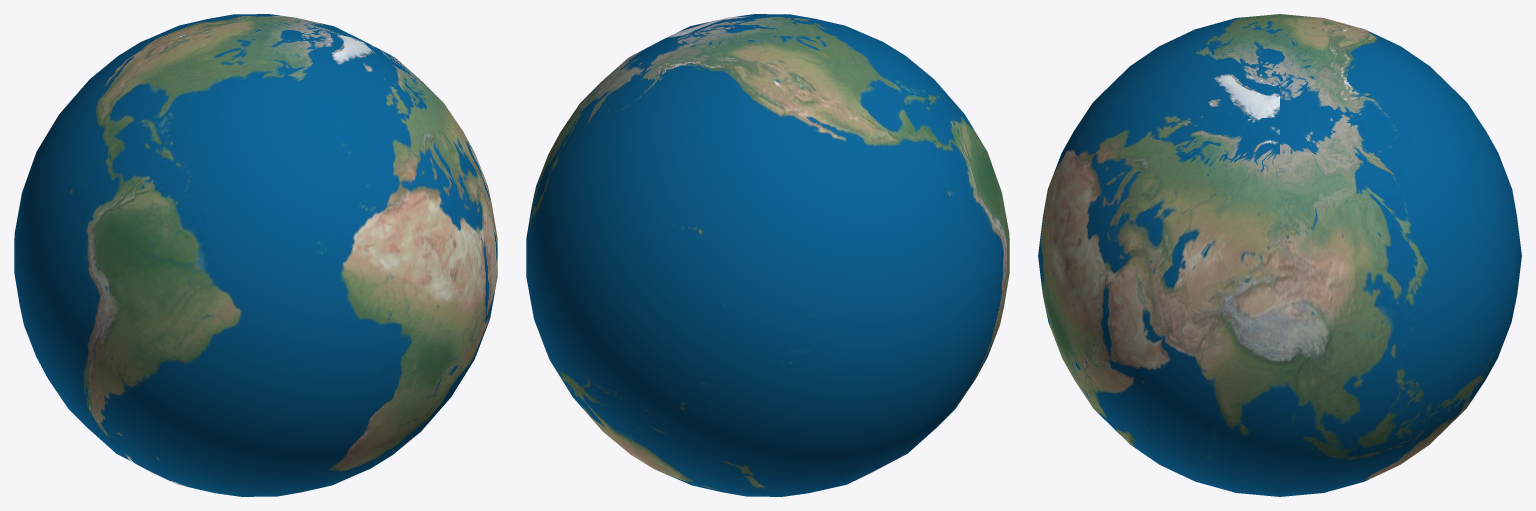
3 views of the same model, side by side, from view 1: azimuth 30°, elevation 25°; view 2: azimuth 150°, elevation 25°; view 3: azimuth 270°, elevation 25° (orthographic).
Visible parts, largest first — view 1: Sphere_3; view 2: Sphere_3; view 3: Sphere_3.
Part boxes in pixels (box(x1,y1,x2,y2)): Sphere_3: box(14, 14, 497, 496); Sphere_3: box(526, 14, 1009, 496); Sphere_3: box(1038, 14, 1521, 496).
Bounding box in the file's own units: 4.98 × 4.98 × 5.
1 material, 1 textured.
